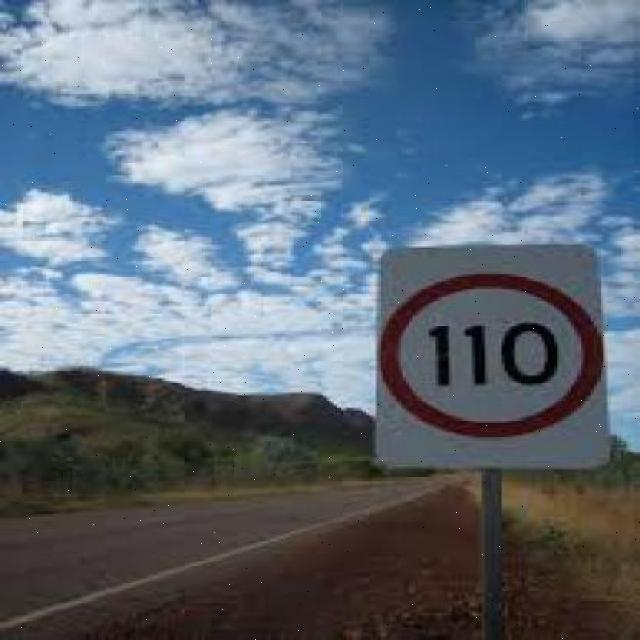speed limit 110: (381, 276, 605, 437)
